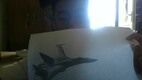maybay_muctieu: (30, 44, 99, 78)
